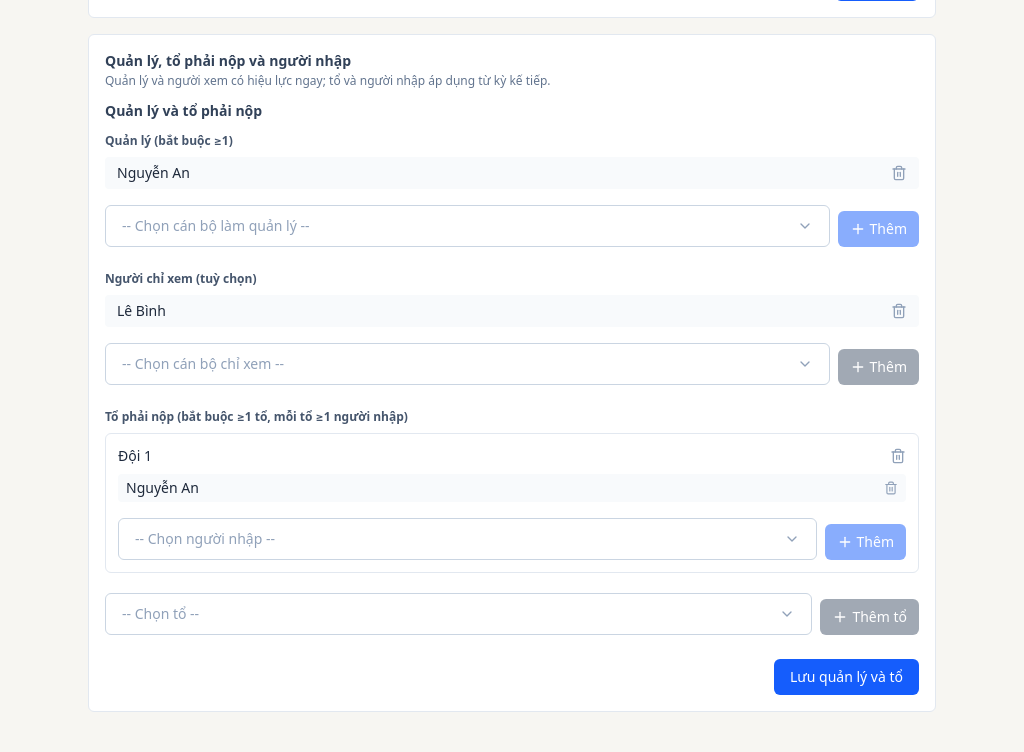
ReportEditPage — "Sửa cấu hình" › a save that changed nothing says so instead of claiming success
(page scrolled)
Step 1. Click the button with test id "btn-teams-next" → (846, 677), box [774,659,919,695]
(page scrolled)
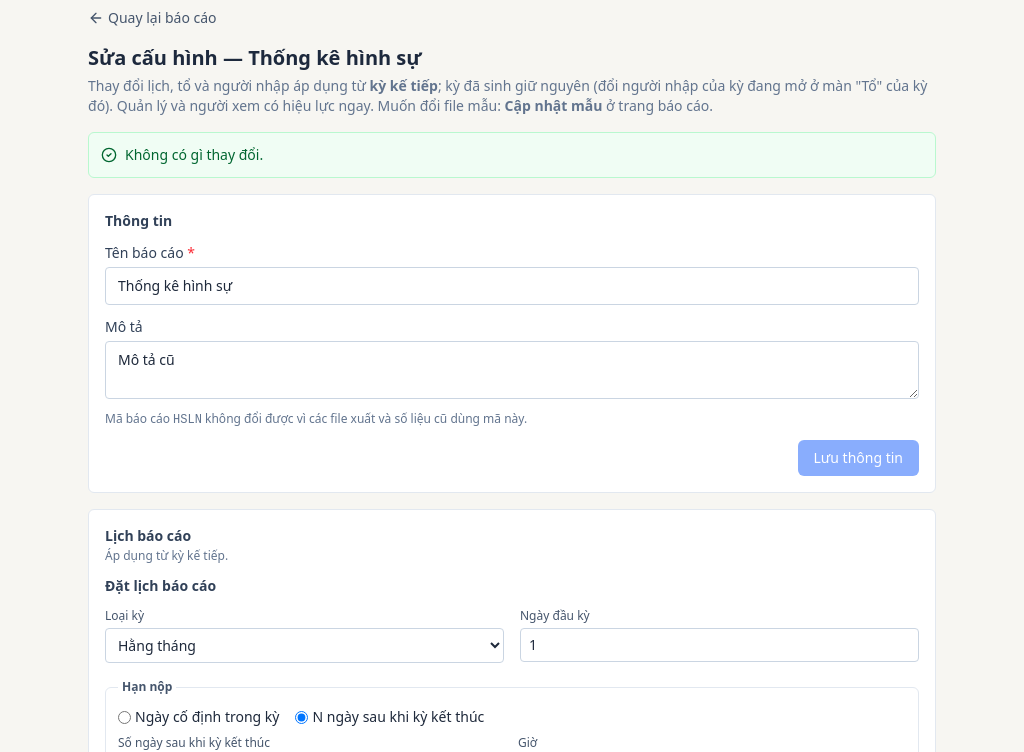
Check: the element with test id "edit-saved" shows "Không có gì thay đổi", box [125,145,263,164]
